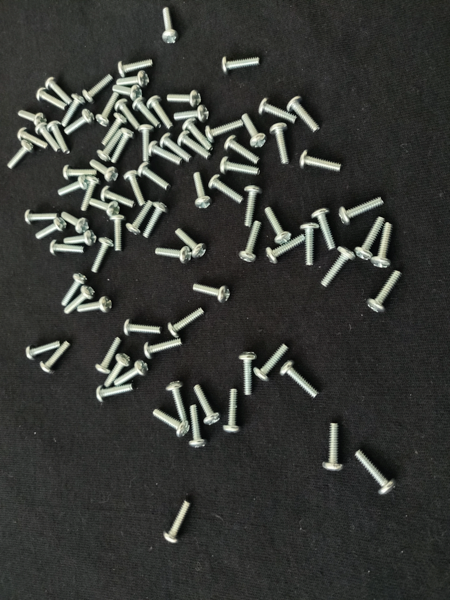shortscrew: (355, 450, 397, 497), (321, 247, 359, 288), (367, 270, 403, 313), (280, 361, 320, 399), (356, 216, 387, 261), (254, 344, 289, 383), (339, 197, 385, 226), (266, 233, 307, 264), (167, 307, 207, 338), (163, 501, 190, 545), (287, 97, 320, 132), (194, 385, 222, 426), (322, 424, 345, 473), (209, 174, 245, 205), (224, 135, 261, 165), (153, 410, 191, 438), (264, 207, 292, 245), (142, 201, 170, 239), (40, 341, 71, 375), (312, 208, 337, 250), (371, 223, 394, 268), (165, 381, 189, 424), (96, 336, 122, 375), (103, 353, 131, 389), (175, 229, 208, 259), (65, 285, 98, 315), (138, 162, 171, 192), (183, 118, 213, 151), (146, 95, 174, 130), (259, 98, 298, 123), (114, 360, 150, 387), (126, 200, 153, 236), (240, 222, 264, 262), (82, 75, 115, 103), (62, 272, 89, 306), (177, 131, 211, 158), (299, 150, 342, 171), (223, 389, 243, 434), (132, 98, 162, 128), (206, 119, 243, 143), (238, 352, 258, 396), (145, 337, 185, 359), (242, 114, 267, 149), (111, 129, 136, 164), (161, 132, 191, 161), (102, 113, 128, 146), (92, 238, 116, 273), (62, 93, 86, 128), (115, 99, 141, 131), (189, 405, 208, 448), (300, 223, 319, 266), (47, 121, 71, 155), (124, 170, 146, 207), (97, 132, 124, 162), (64, 109, 96, 134), (221, 156, 261, 176), (26, 340, 64, 361), (148, 142, 184, 164), (7, 140, 34, 169), (96, 92, 119, 126), (223, 55, 262, 75), (36, 122, 61, 153), (101, 186, 136, 208), (270, 123, 289, 163), (245, 186, 263, 227), (193, 284, 231, 303), (124, 318, 162, 337), (96, 384, 134, 403), (45, 78, 71, 105), (193, 173, 212, 209), (118, 59, 154, 78), (61, 212, 92, 234), (36, 217, 67, 239), (156, 246, 193, 264), (17, 127, 48, 148), (36, 88, 67, 109), (77, 296, 113, 314), (138, 124, 155, 162), (90, 160, 118, 183), (167, 89, 202, 107), (50, 240, 86, 257), (110, 214, 126, 252), (58, 177, 89, 196), (175, 105, 209, 122), (163, 8, 179, 43), (24, 210, 60, 225), (89, 199, 120, 216), (112, 84, 143, 101), (63, 165, 98, 180), (64, 230, 97, 245), (117, 71, 150, 86), (18, 110, 45, 127)
